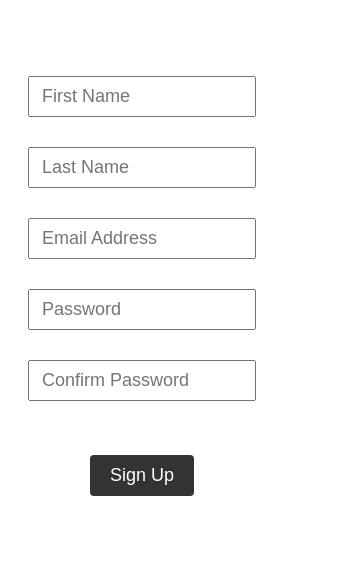
Scenario: App component tests › displays validation errors on form submission
What coordinates should you click on to do the following:
click the button "Sign Up"
I would click on:
 (142, 476)
Its box is [90,455,194,496].
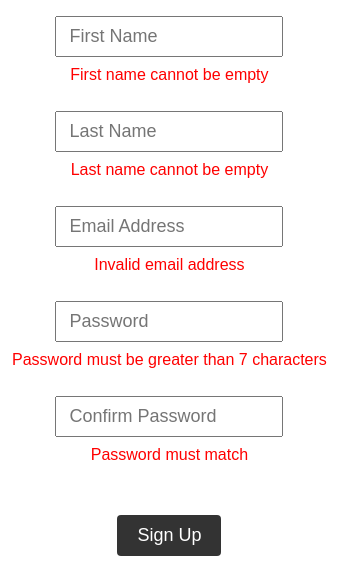
Now the text with test id "first-name-error-id" reads "First name cannot be empty", box [70,66,269,83]
Now the text with test id "last-name-error-id" reads "Last name cannot be empty", box [71,161,268,178]
Now the text with test id "email-error-id" reads "Invalid email address", box [94,256,245,273]
